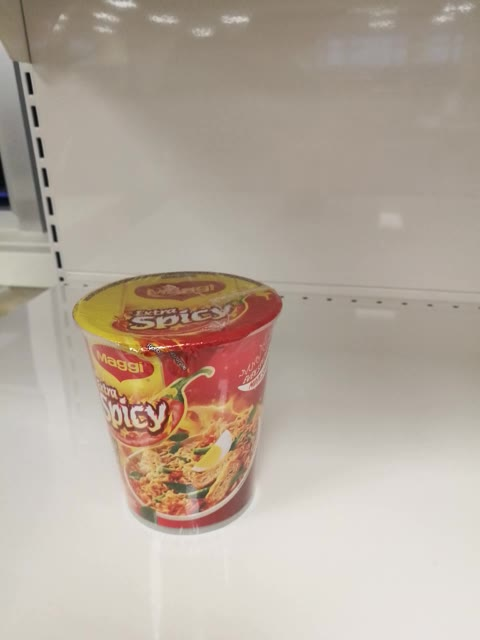maggi: (68, 270, 284, 537)
